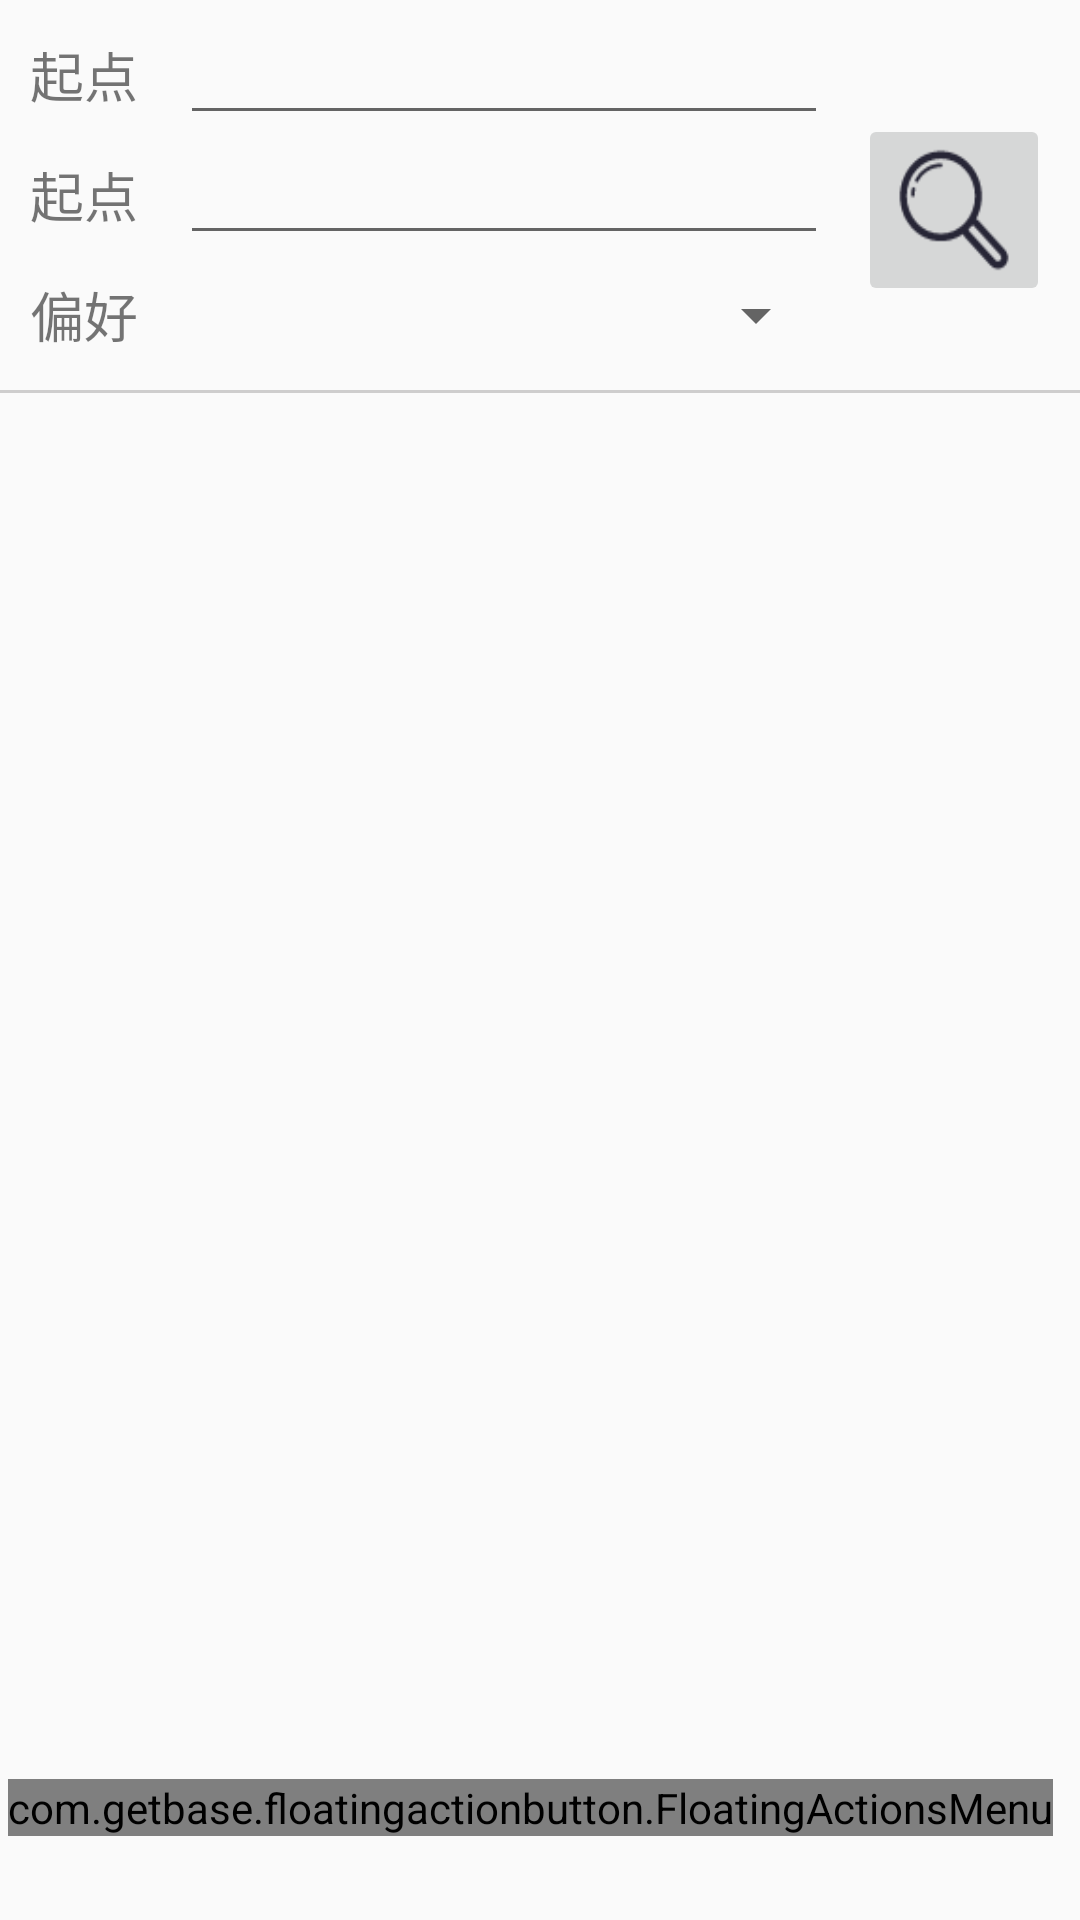

Named icons in this screenshot (1080×1920) and their centers, [x,y]:
search: [954,210]
